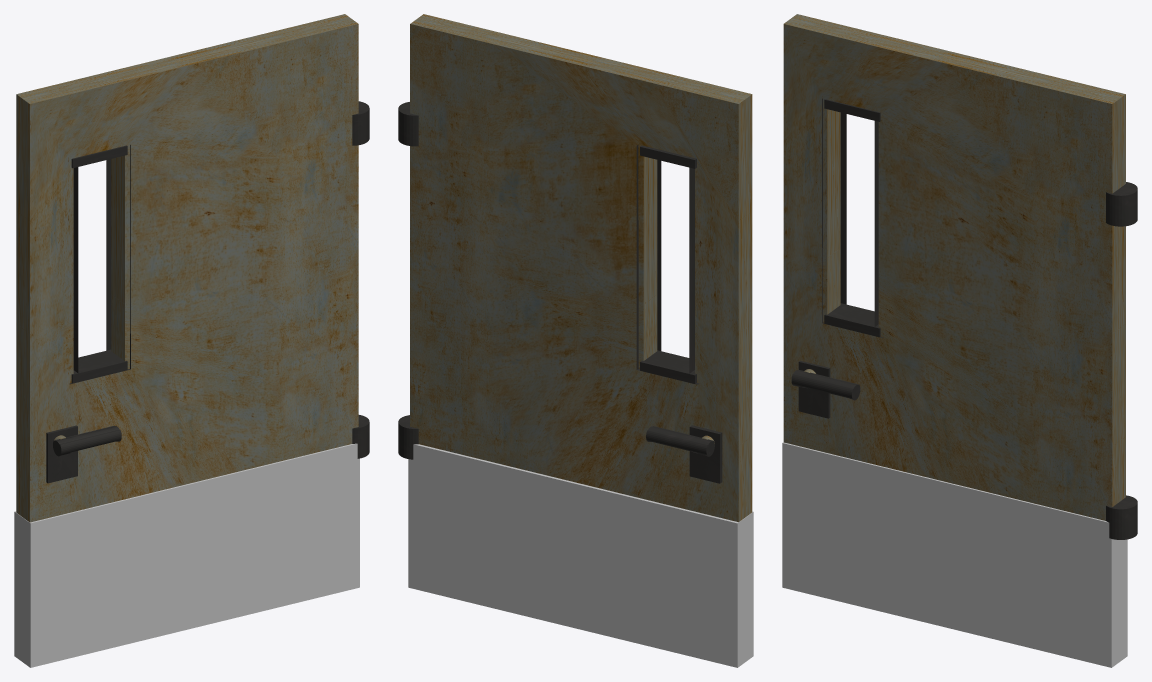
Rendered from door.fbx.
3 views of the same model, side by side, from view 1: azimuth 30°, elevation 25°; view 2: azimuth 150°, elevation 25°; view 3: azimuth 330°, elevation 25° (orthographic).
Parts seen in each view (by area): view 1: Cube.001, Cube.002, Cube.004; view 2: Cube.001, Cube.002, Cube.004; view 3: Cube.001, Cube.002, Cube.004.
Boxes of the visible parts, x1,y1,x2,y2 form: Cube.001: (16, 14, 358, 522); Cube.002: (14, 443, 359, 667); Cube.004: (46, 101, 369, 483); Cube.001: (410, 14, 752, 522); Cube.002: (408, 444, 753, 667); Cube.004: (398, 102, 722, 483); Cube.001: (783, 14, 1125, 520); Cube.002: (782, 442, 1127, 667); Cube.004: (791, 98, 1137, 539).
Bounding box in the file's own units: 163 × 254 × 31.01.
